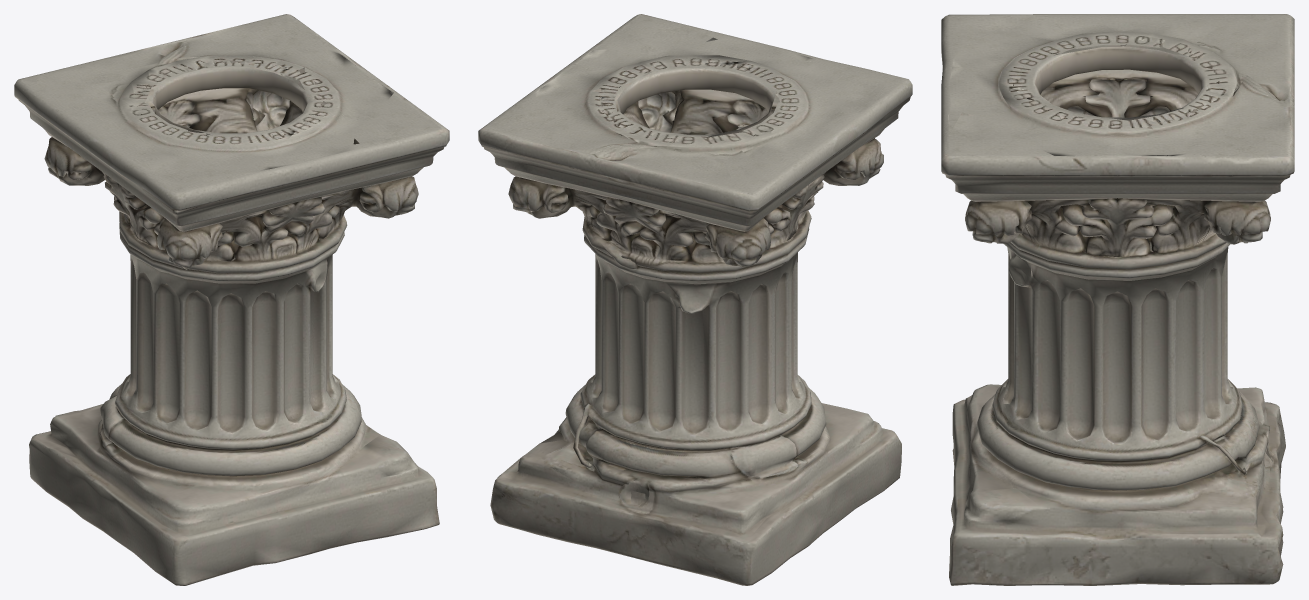
Rendered from pedestal_decimated.glb.
3 renders of one model, left to right at view 1: azimuth 30°, elevation 25°; view 2: azimuth 150°, elevation 25°; view 3: azimuth 270°, elevation 25°, orthographic. The views are drawn at different scales.
Visible parts, largest first — view 1: tripo_node_8e2d5233-1da9-4710-a139-df176535163b; view 2: tripo_node_8e2d5233-1da9-4710-a139-df176535163b; view 3: tripo_node_8e2d5233-1da9-4710-a139-df176535163b.
Boxes of the visible parts, x1,y1,x2,y2 form: tripo_node_8e2d5233-1da9-4710-a139-df176535163b: (14,14,449,585); tripo_node_8e2d5233-1da9-4710-a139-df176535163b: (478,14,912,585); tripo_node_8e2d5233-1da9-4710-a139-df176535163b: (941,14,1294,585).
Bounding box in the file's own units: 0.7319 × 0.9961 × 0.7339.
1 material, 1 textured.
